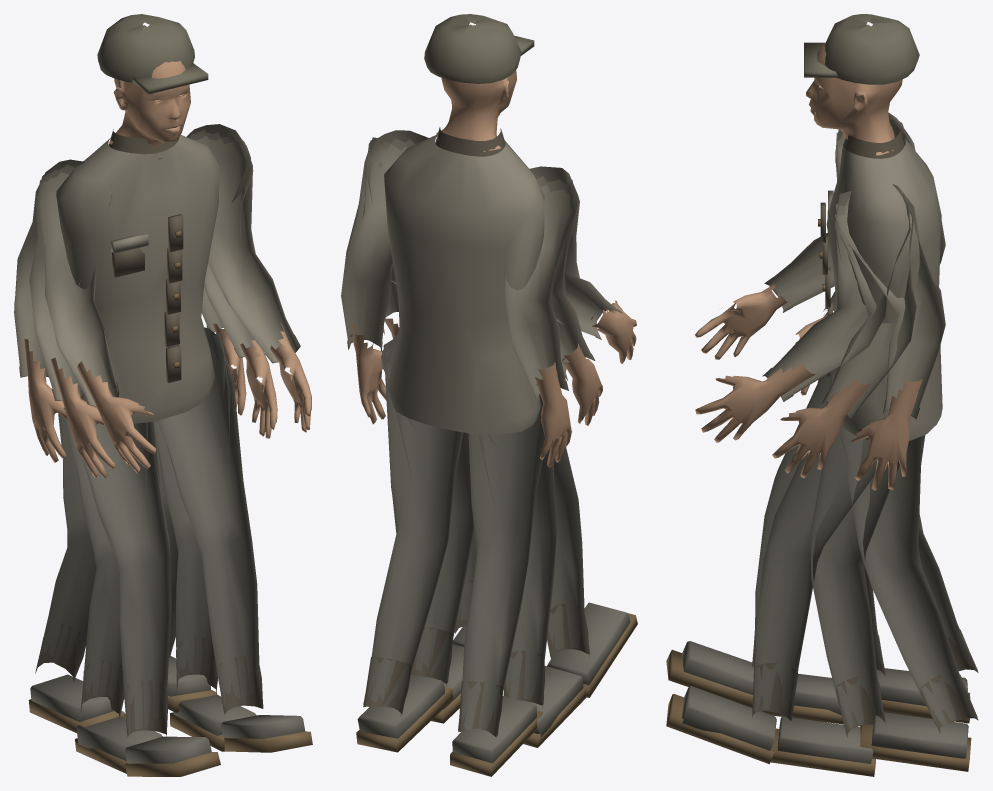
Rendered from river-crowd.glb.
3 views of the same model, side by side, from view 1: azimuth 30°, elevation 25°; view 2: azimuth 150°, elevation 25°; view 3: azimuth 270°, elevation 25° (orthographic).
Visible parts, largest first — view 1: idle, walk-2, walk-0; view 2: idle, walk-0, walk-2; view 3: idle, walk-2, walk-0.
Boxes of the visible parts, x1,y1,x2,y2 form: idle: [29, 14, 277, 773]; walk-2: [28, 79, 312, 752]; walk-0: [14, 110, 311, 776]; idle: [359, 14, 602, 747]; walk-0: [356, 92, 637, 752]; walk-2: [341, 78, 636, 776]; idle: [765, 14, 942, 776]; walk-2: [666, 107, 978, 764]; walk-0: [666, 99, 978, 771].
Size of the model in its own units: 0.5394 by 1.67 by 0.6581.
